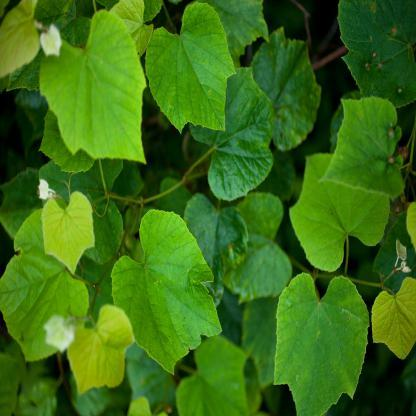grape leaf black rot: (107, 207, 232, 380), (40, 7, 152, 168), (260, 270, 371, 416), (146, 3, 236, 138), (36, 187, 100, 277), (369, 278, 416, 361)
